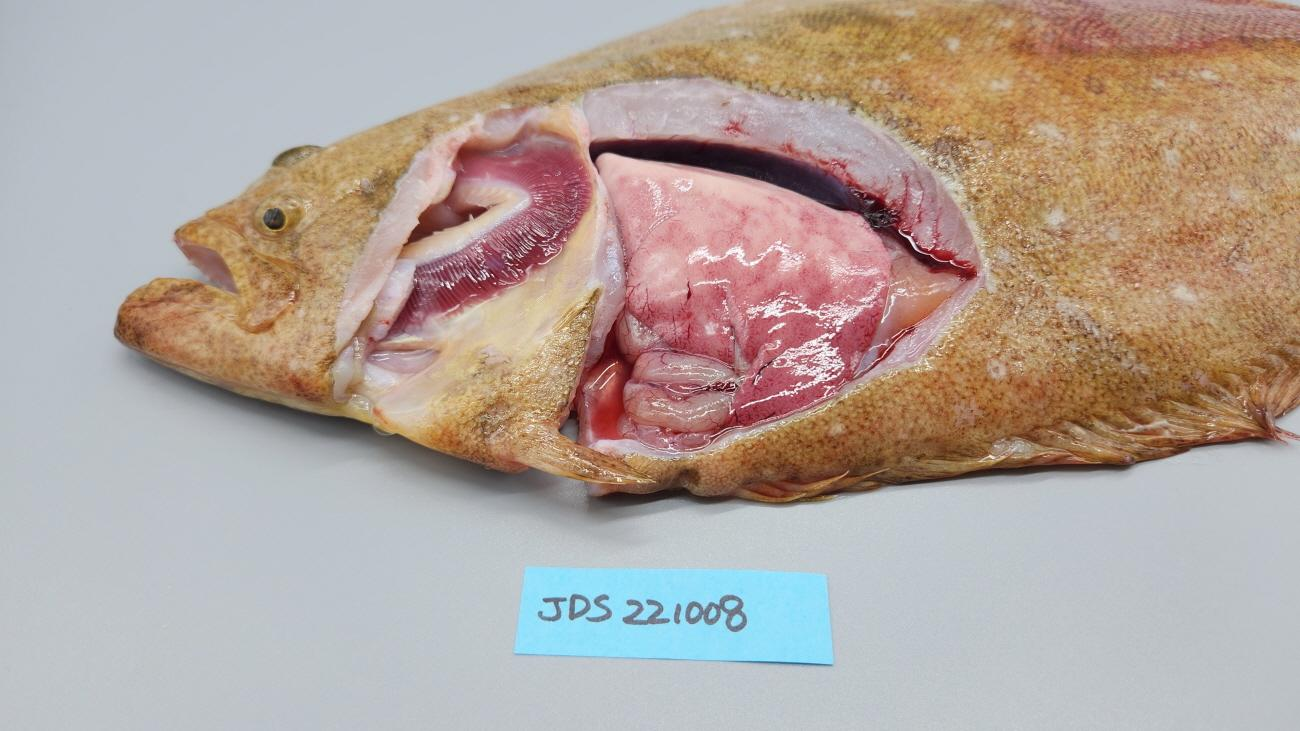VILIC: (629, 209, 880, 419)
